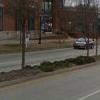Car: (66, 30, 99, 64)
